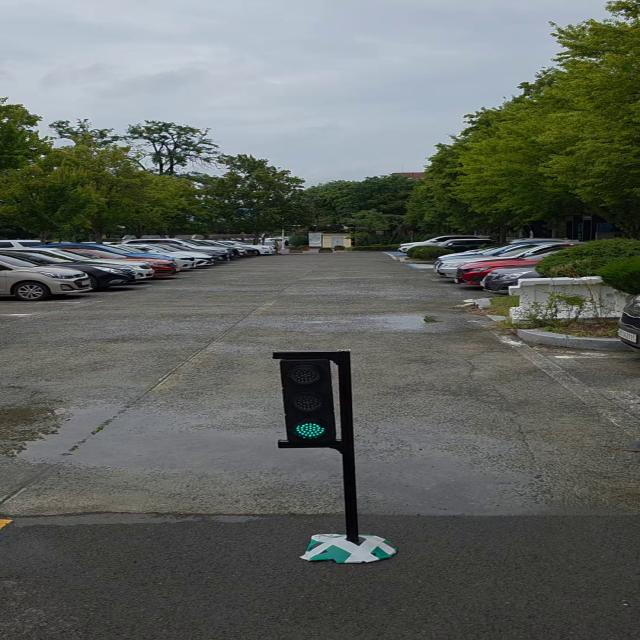green: (283, 352, 341, 443)
